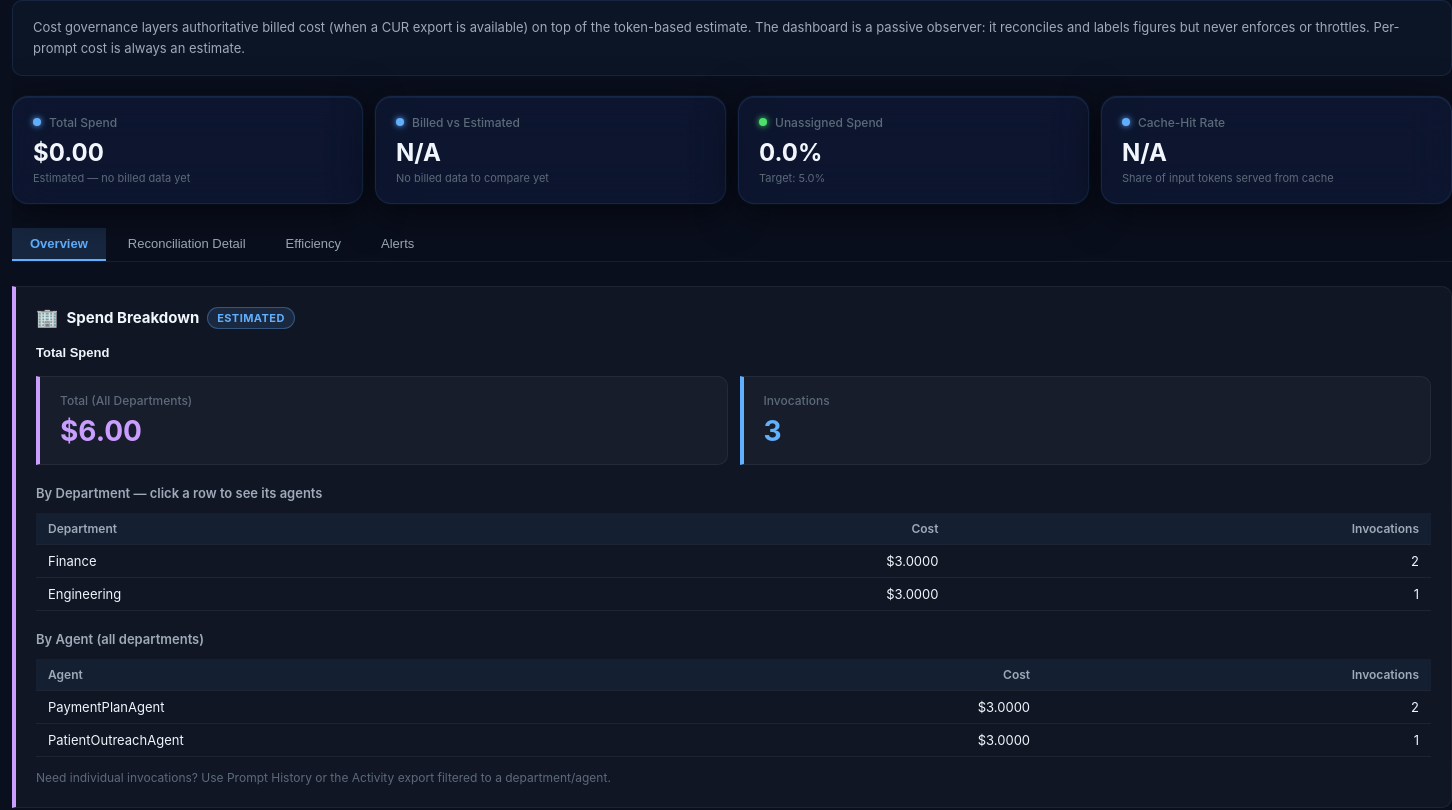
Test case: CostGovernanceTab — segmented navigation › switches to Reconciliation Detail and back to Overview
The width and height of the screenshot is (1452, 810).
Click the button with test id "segment-reconciliation".
click(187, 244)  # box [110,228,264,261]
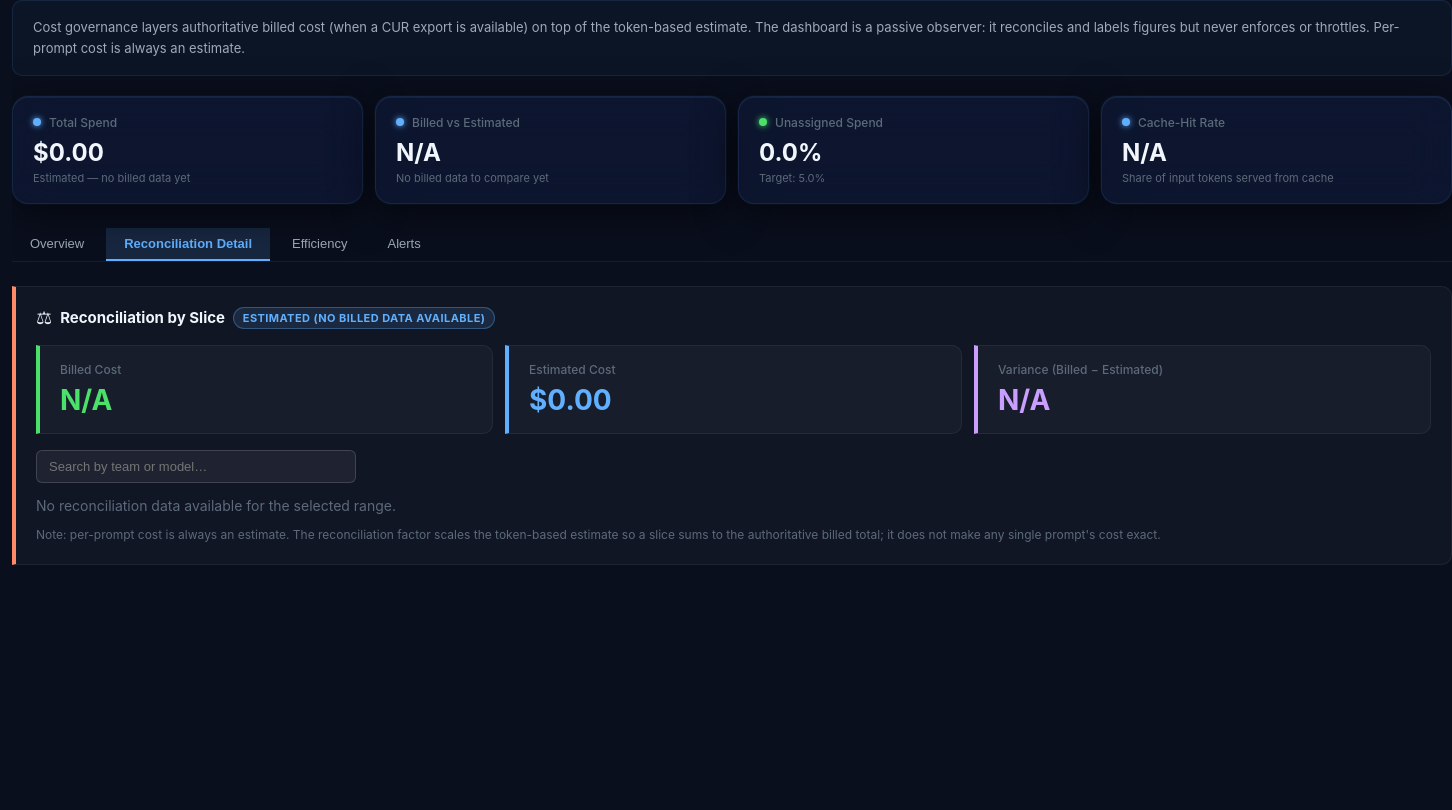
Expected: the element with test id "segment-panel-reconciliation" is shown, [12,286,1451,565]
Expected: the element with test id "segment-panel-overview" is gone
Click the button with test id "segment-overview".
click(57, 244)  # box [12,228,102,261]
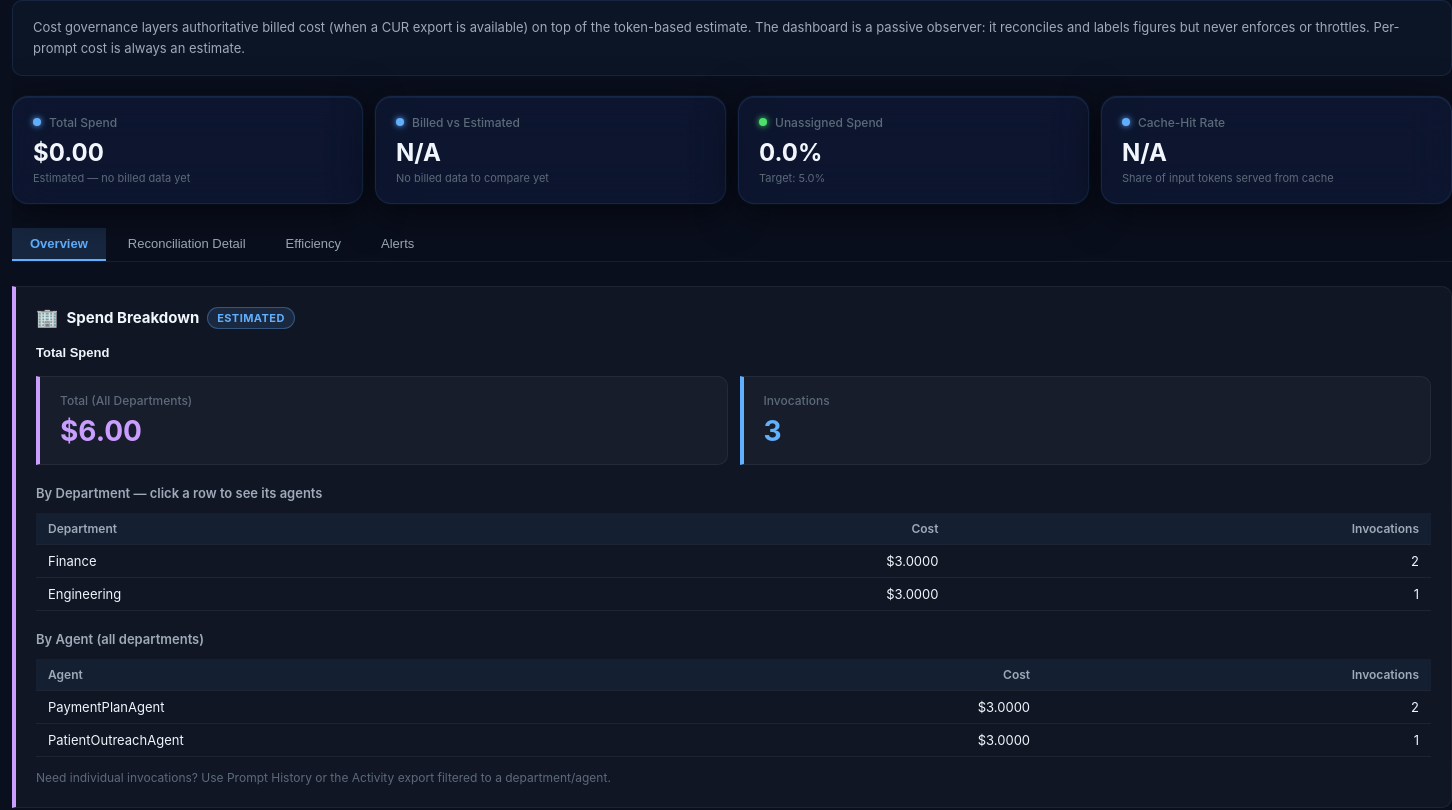
Expected: the element with test id "segment-panel-overview" is shown
Expected: the element with test id "segment-panel-reconciliation" is gone
